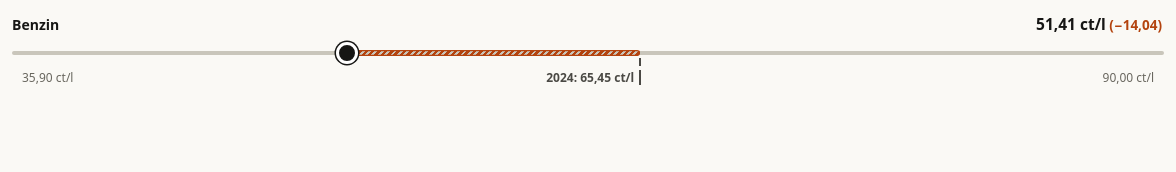
the base-year value › stands under its tick as a button that sets the slider back to it
Step 1. Click the button "2024: 65,45 ct/l" → (594,78), box [546, 70, 641, 85]
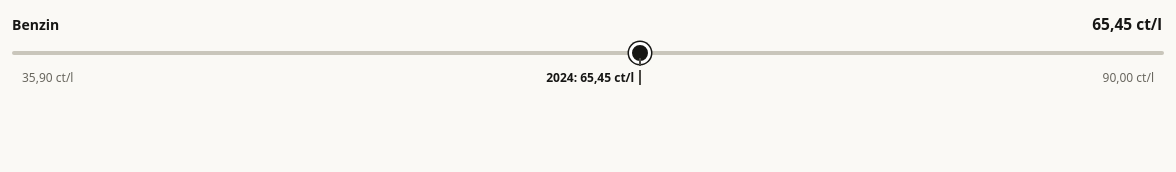
Check: the button "2024: 65,45 ct/l" has class "is-current", box [546, 70, 641, 85]
